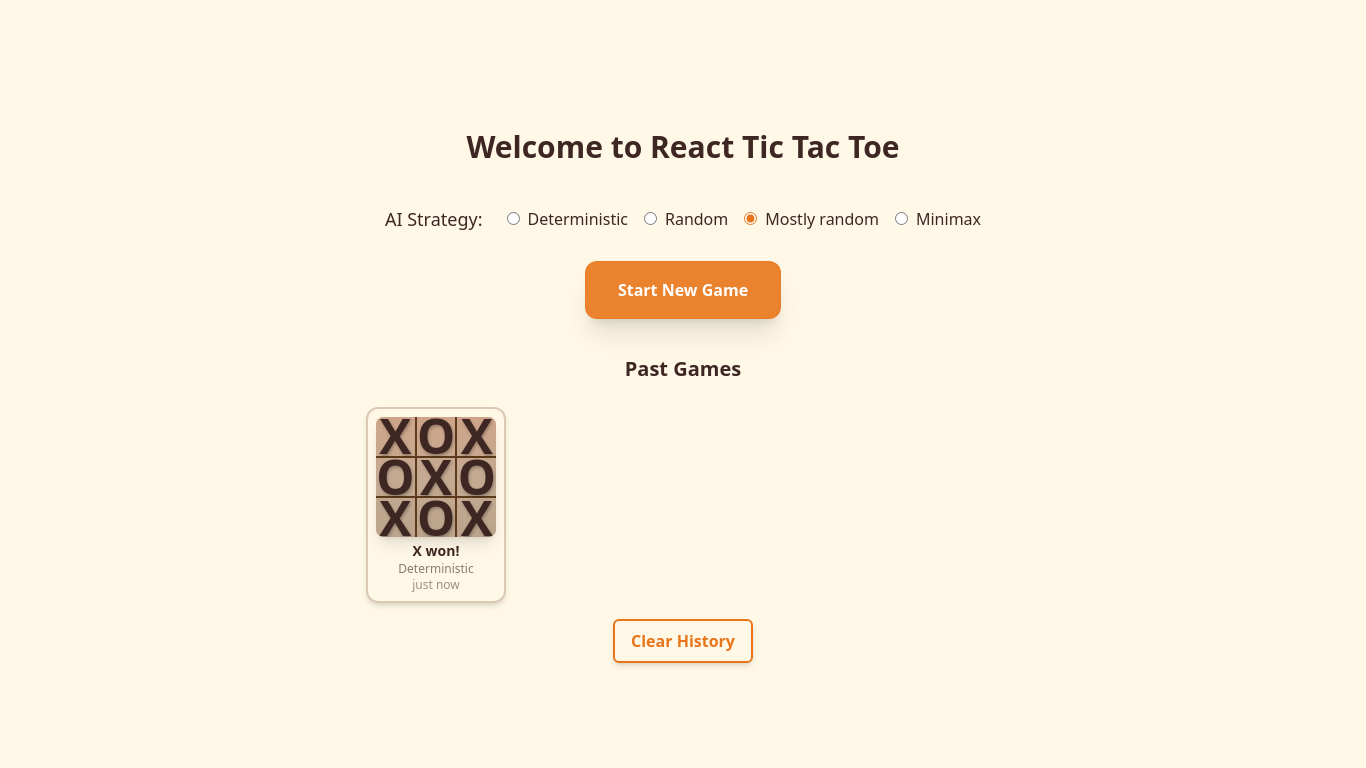
App › Clear History confirmation dialog › clears history and closes dialog when Clear is clicked
The image size is (1366, 768).
Click the button with test id "clear-history-button". click: (683, 641)
box: [613, 619, 753, 663]
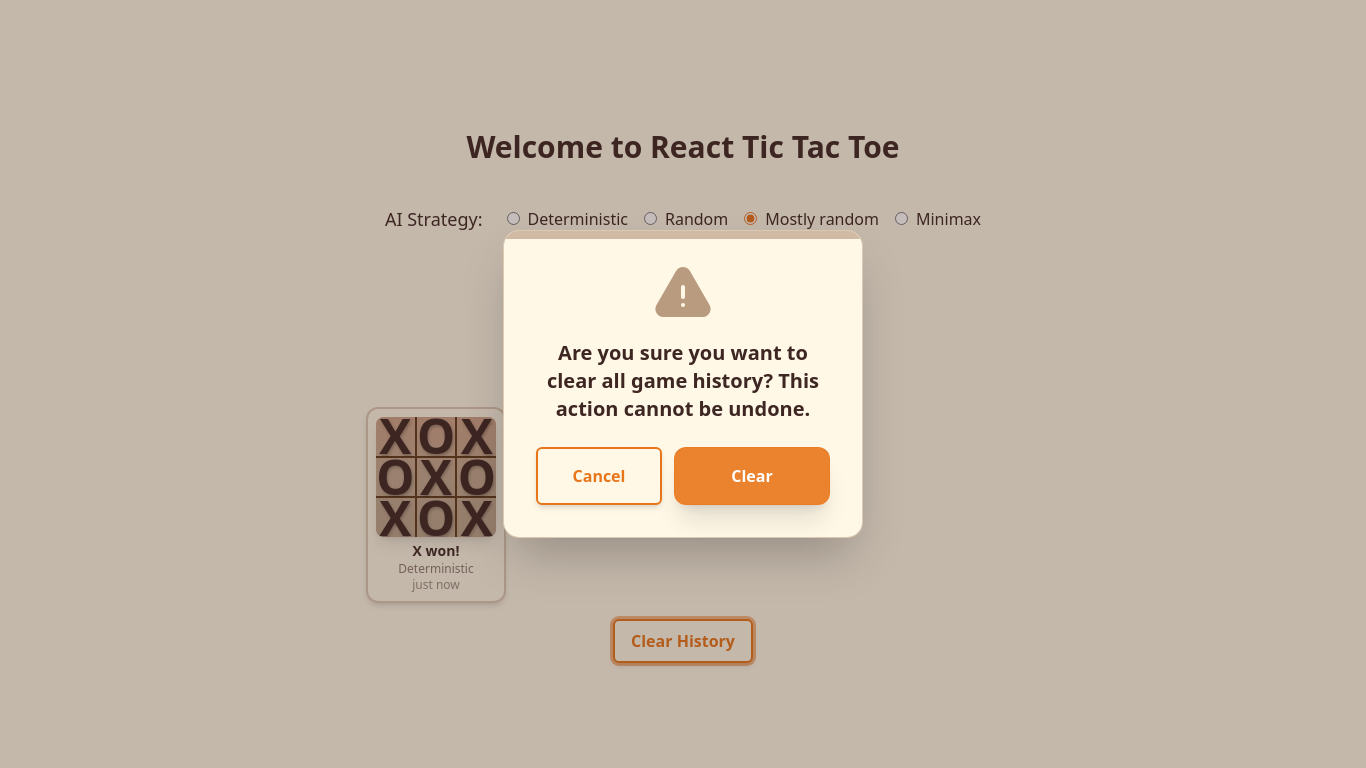
Click the button "Clear". click: (752, 476)
box: [674, 447, 830, 505]
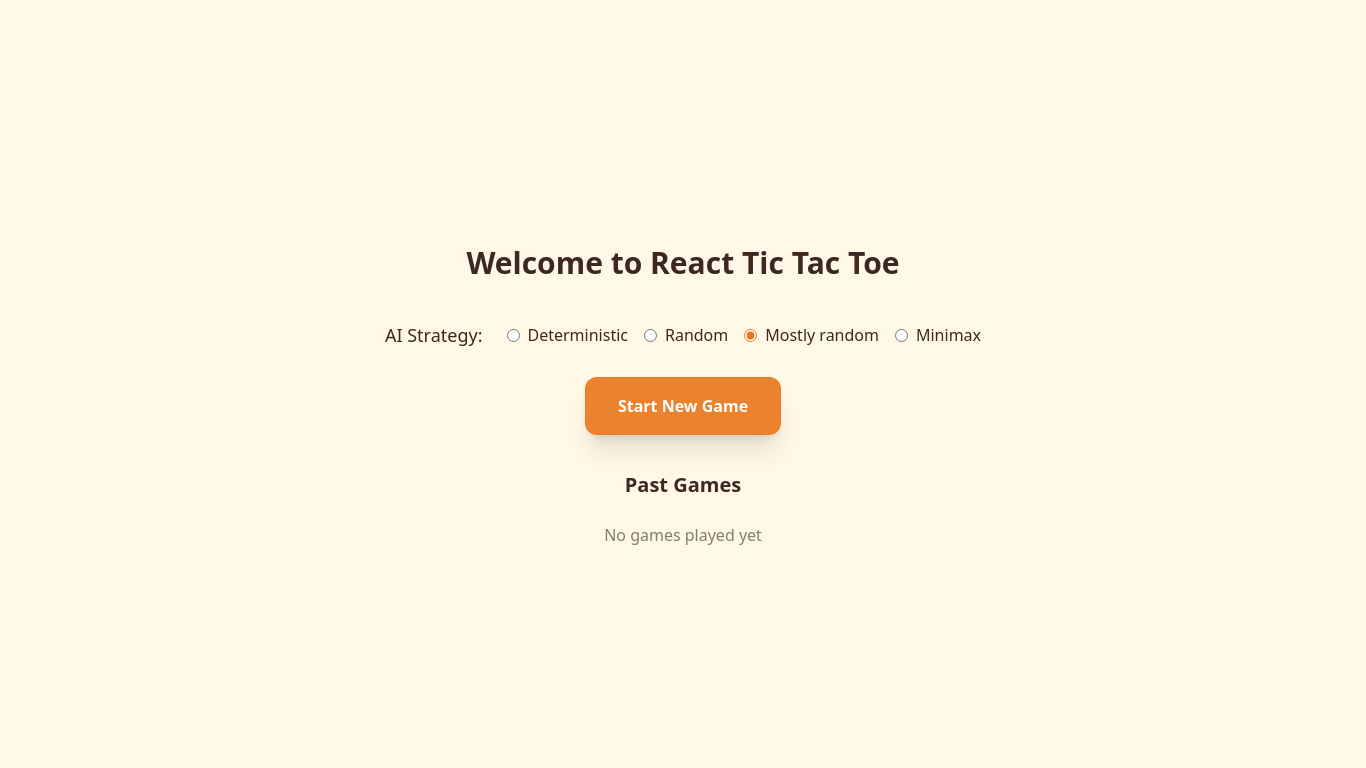
Now the text with test id "no-past-games" reads "No games played yet", box [604, 524, 762, 546]
Now the text with test id "clear-history-dialog-message" is gone
Now the button with test id "clear-history-button" is gone
